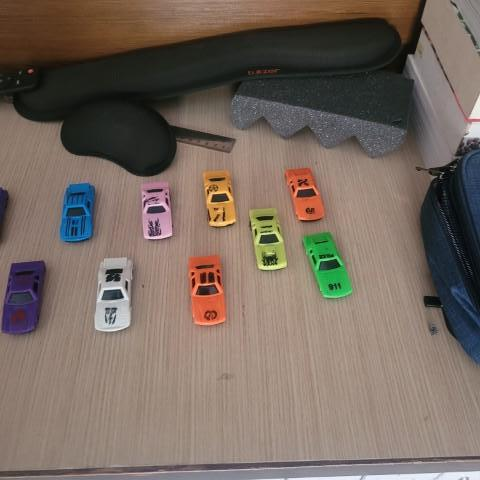car: (300, 227, 356, 300), (3, 259, 49, 337), (185, 252, 231, 328), (93, 254, 136, 332), (247, 205, 291, 274), (57, 177, 99, 243), (284, 162, 327, 222), (200, 166, 238, 230), (138, 178, 173, 243)
